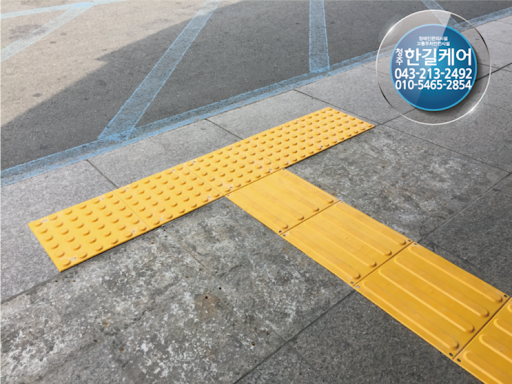dot: (42, 202, 139, 256), (135, 167, 207, 217), (207, 149, 266, 183), (268, 124, 314, 163), (310, 108, 358, 141)
line: (379, 250, 493, 345), (307, 205, 393, 276), (251, 175, 324, 224)
